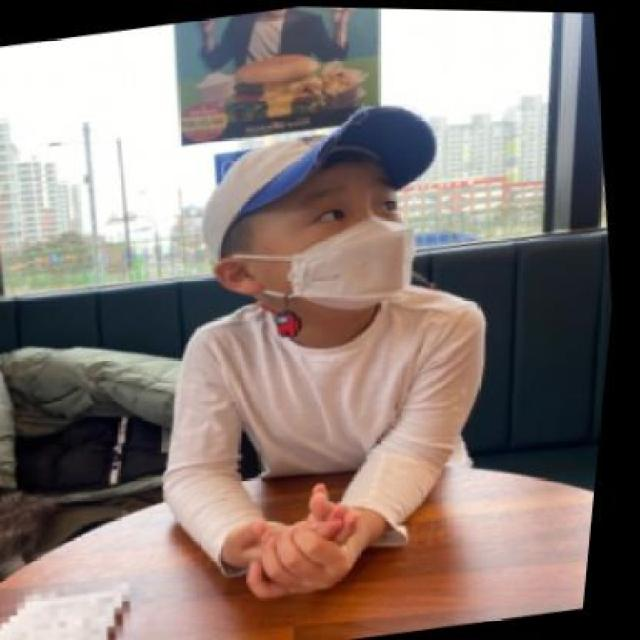hat: (203, 100, 434, 260)
